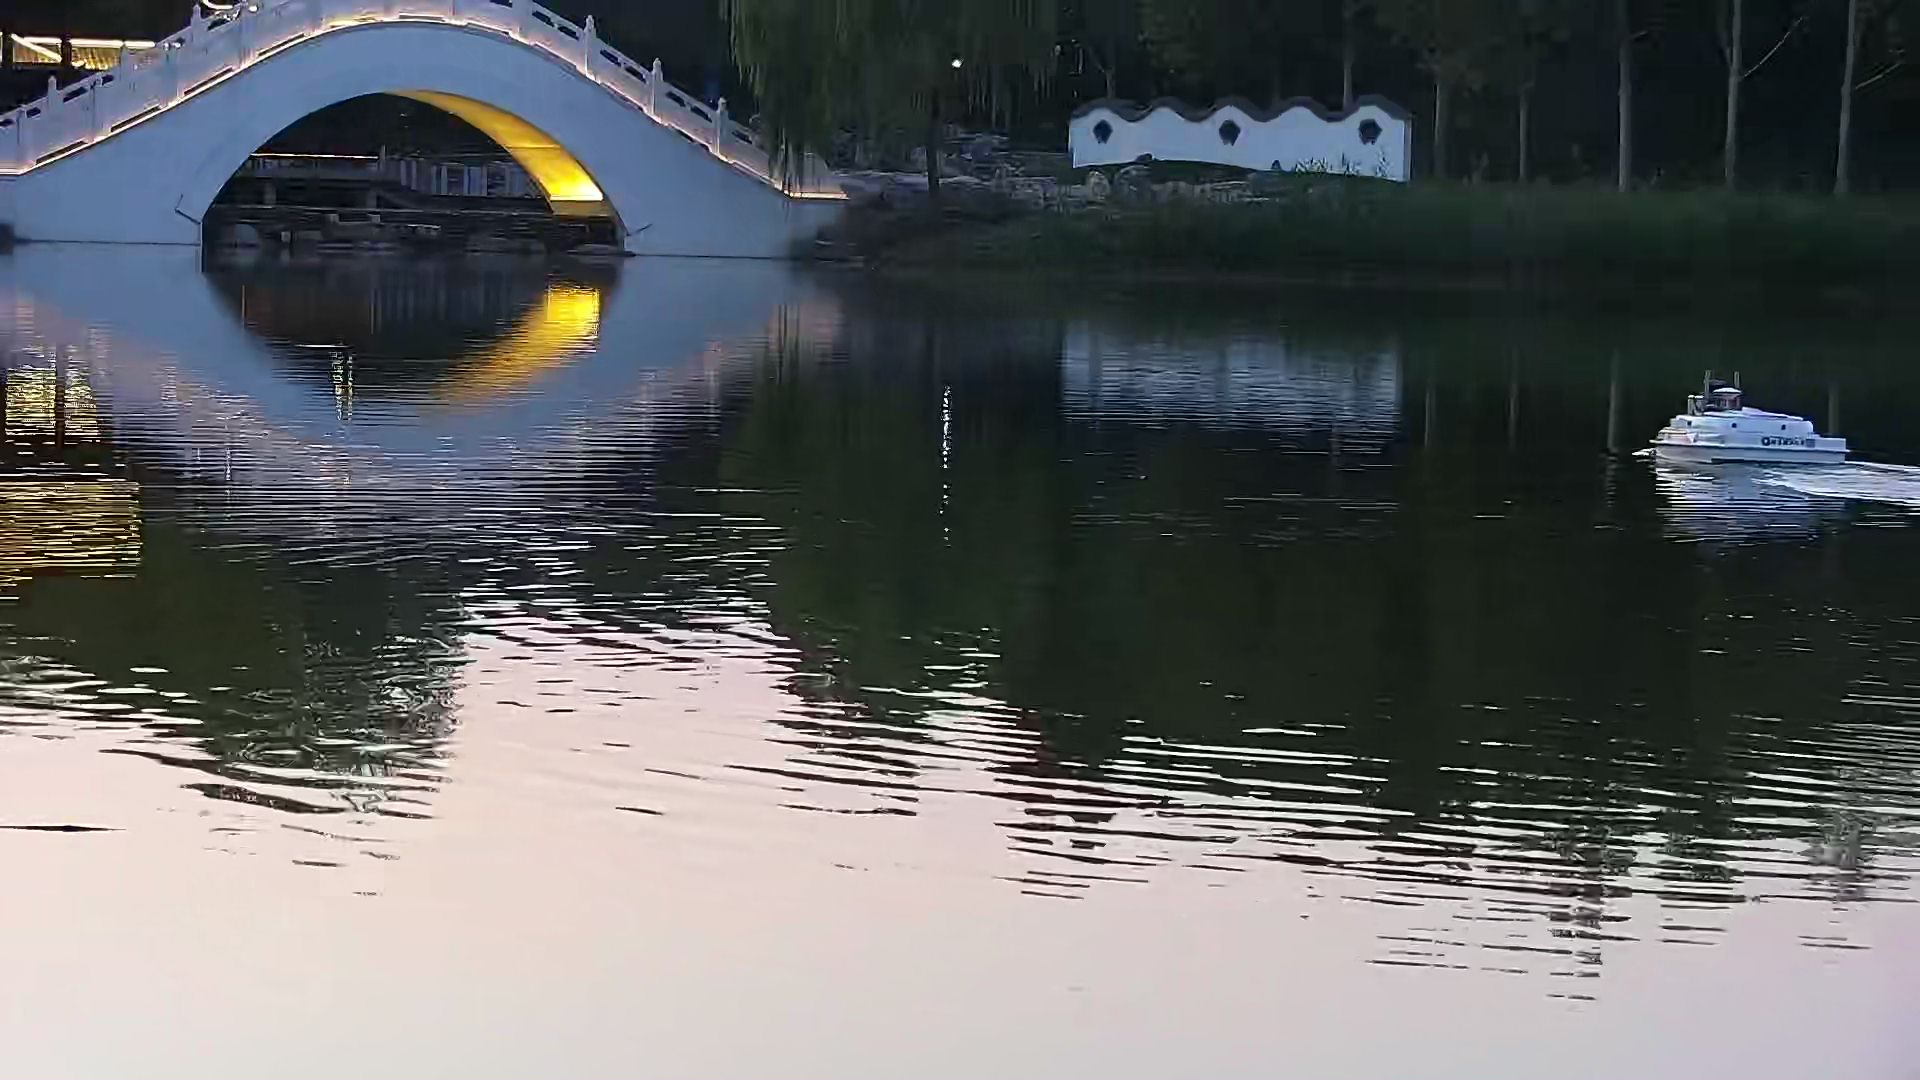boat: (1643, 363, 1846, 485)
bridge: (1, 3, 837, 258)
